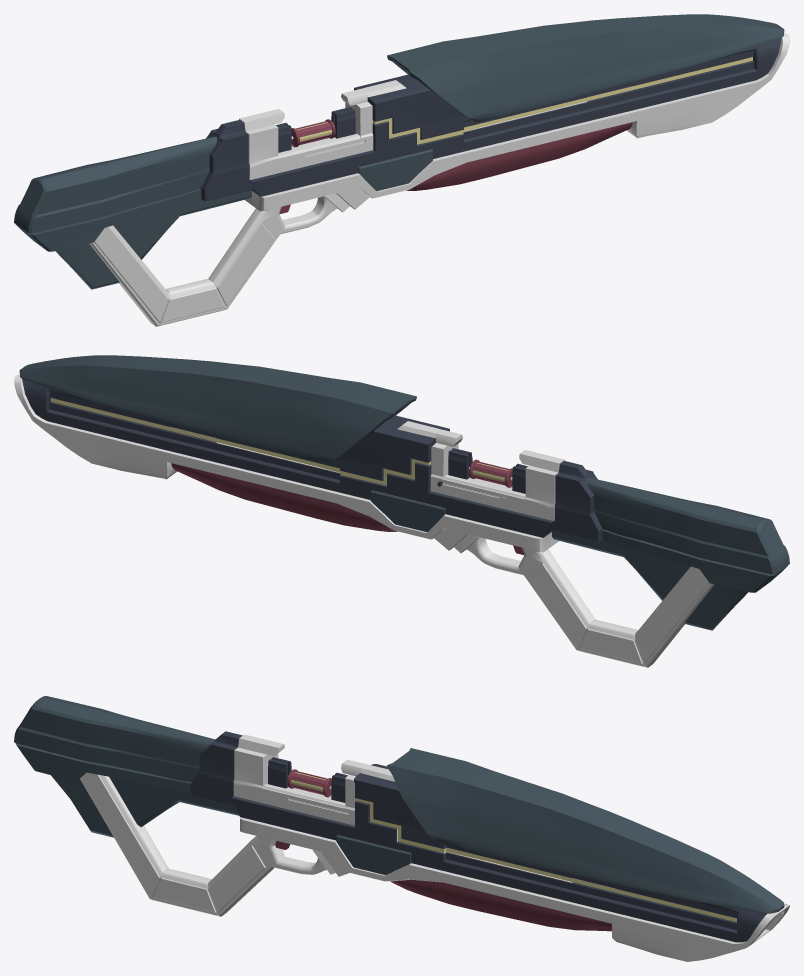
File: SM_Auto_Blaster-object_05.fbx
3 views of the same model, one above another, from view 1: azimuth 30°, elevation 25°; view 2: azimuth 150°, elevation 25°; view 3: azimuth 330°, elevation 25° (orthographic).
Parts seen in each view (by area): view 1: Auto_Blaster, battery, pCube3; view 2: Auto_Blaster, battery, pCube3; view 3: Auto_Blaster, battery, pCube4.
Boxes of the visible parts, left/top/right/bottom form: Auto_Blaster: left=14, top=14, right=789, bottom=326; battery: left=291, top=119, right=335, bottom=147; pCube3: left=331, top=107, right=355, bottom=138; Auto_Blaster: left=14, top=355, right=789, bottom=667; battery: left=469, top=459, right=512, bottom=487; pCube3: left=448, top=448, right=472, bottom=479; Auto_Blaster: left=14, top=696, right=789, bottom=961; battery: left=287, top=769, right=331, bottom=797; pCube4: left=268, top=757, right=291, bottom=788.
Size of the model in its own units: 62.44 by 15.81 by 5.84.
